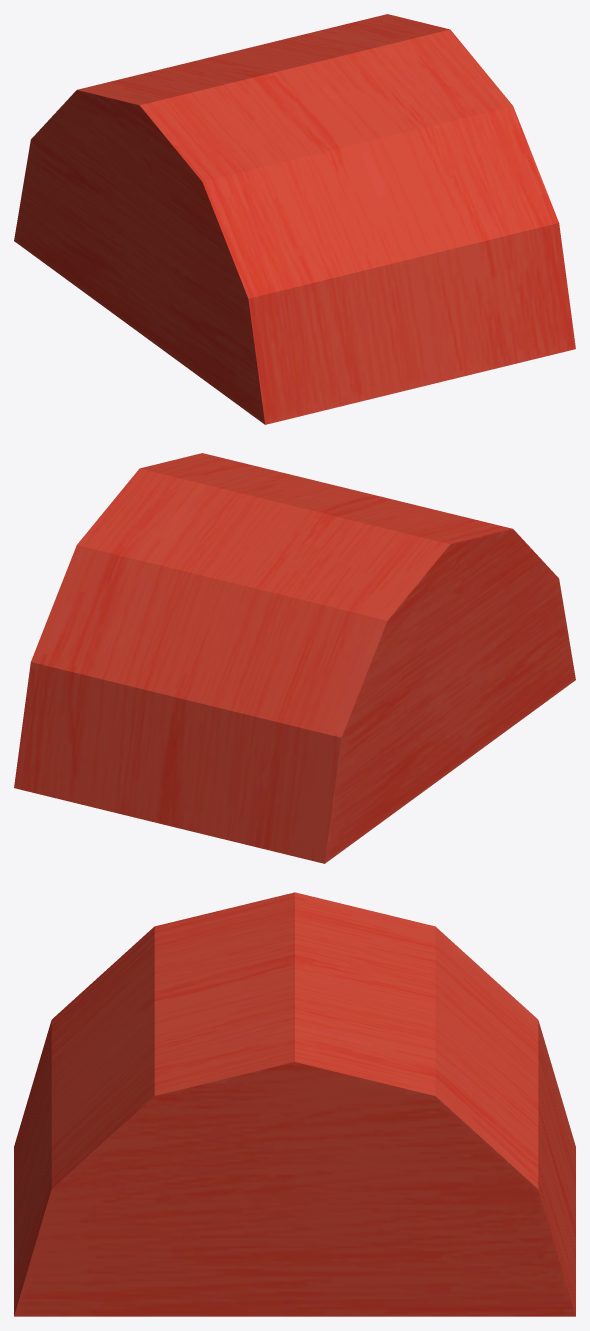
The model's file is SemiCircleBlock_Red.fbx.
3 renders of one model, top to bottom at view 1: azimuth 30°, elevation 25°; view 2: azimuth 150°, elevation 25°; view 3: azimuth 270°, elevation 25°, orthographic. The views are drawn at different scales.
Visible parts, largest first — view 1: Cylinder.008; view 2: Cylinder.008; view 3: Cylinder.008.
Boxes of the visible parts, x1,y1,x2,y2 form: Cylinder.008: (14, 14, 575, 424); Cylinder.008: (14, 453, 575, 863); Cylinder.008: (14, 892, 575, 1316).
Bounding box in the file's own units: 100 × 70 × 140.
